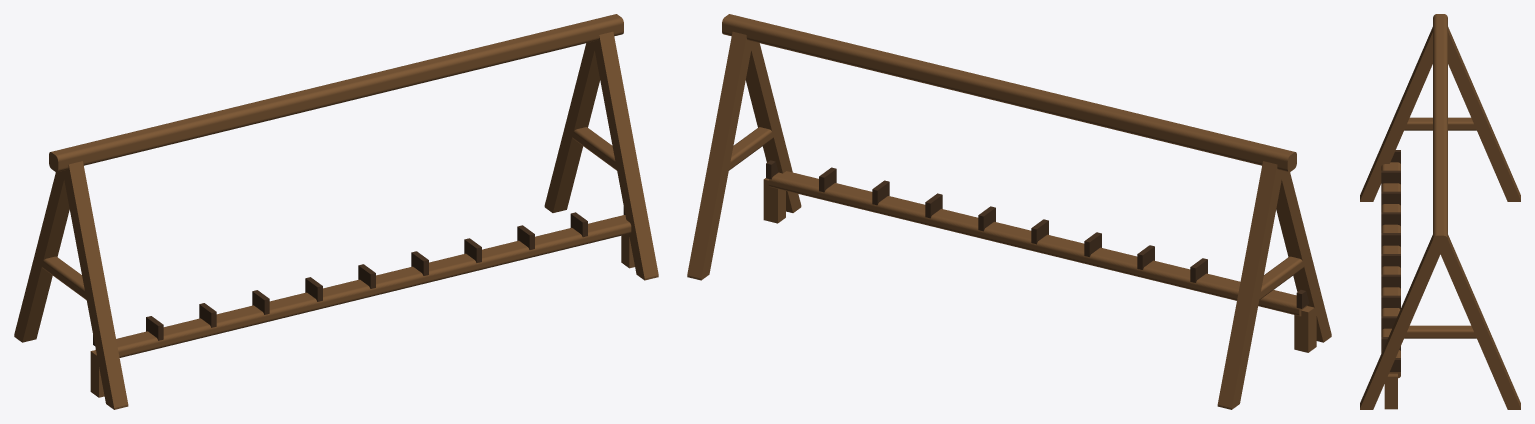
File: ski_rack.obj
The picture shows the model from 3 angles, left to right: view 1: azimuth 30°, elevation 25°; view 2: azimuth 150°, elevation 25°; view 3: azimuth 270°, elevation 25°; orthographic projection. The views are drawn at different scales.
Size of the model in its own units: 3.2 by 1.2 by 0.98.
